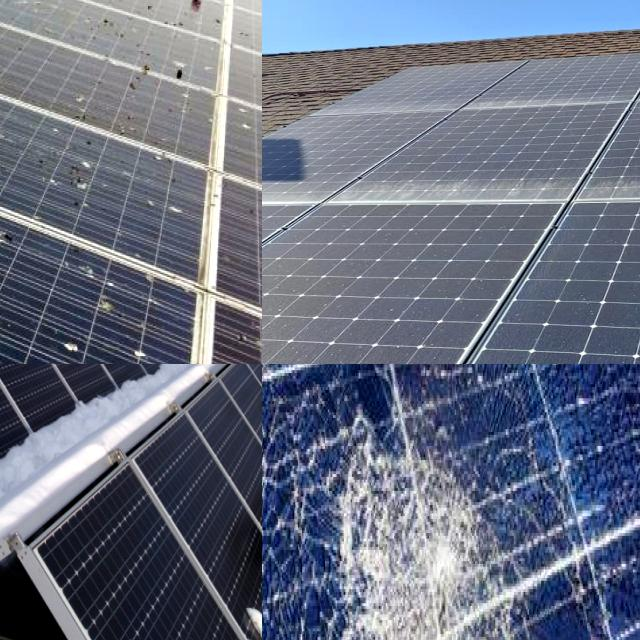bird: (144, 162, 188, 235), (62, 144, 101, 224), (120, 41, 163, 104), (0, 99, 34, 149), (88, 289, 126, 322), (0, 283, 28, 325), (167, 60, 202, 93), (56, 324, 90, 357), (0, 222, 40, 249), (0, 175, 26, 210), (0, 204, 27, 232), (176, 0, 213, 18), (0, 305, 15, 347), (127, 342, 157, 362), (252, 153, 262, 189)
dust: (262, 169, 576, 206), (509, 279, 640, 364), (262, 306, 411, 364), (464, 94, 618, 110), (329, 104, 452, 115), (584, 168, 640, 191)
hotspot: (314, 395, 523, 640)
panel: (37, 364, 177, 494), (0, 553, 71, 634), (0, 425, 92, 481), (159, 364, 248, 419), (0, 490, 61, 550), (0, 364, 37, 390), (0, 364, 37, 386)
